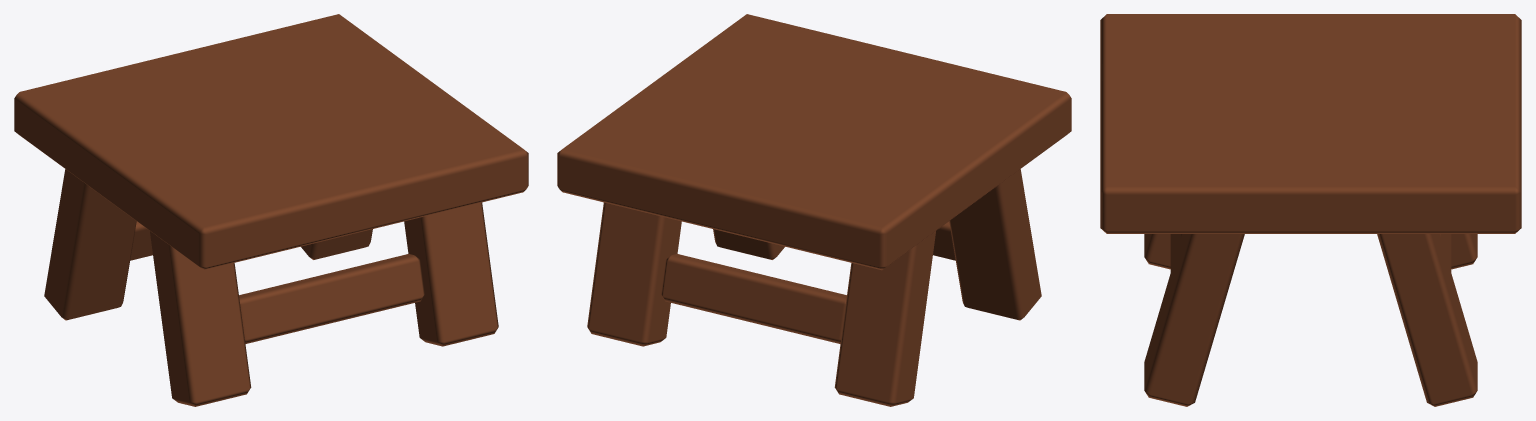
The model's file is Stool.glb.
3 renders of one model, left to right at view 1: azimuth 30°, elevation 25°; view 2: azimuth 150°, elevation 25°; view 3: azimuth 270°, elevation 25°, orthographic. The views are drawn at different scales.
Visible parts, largest first — view 1: Stool; view 2: Stool; view 3: Stool.
Part boxes in pixels (left/top/right/bottom): Stool: left=14, top=14, right=528, bottom=406; Stool: left=557, top=14, right=1071, bottom=406; Stool: left=1100, top=14, right=1521, bottom=406.
Bounding box in the file's own units: 0.64 × 0.3791 × 0.64.
